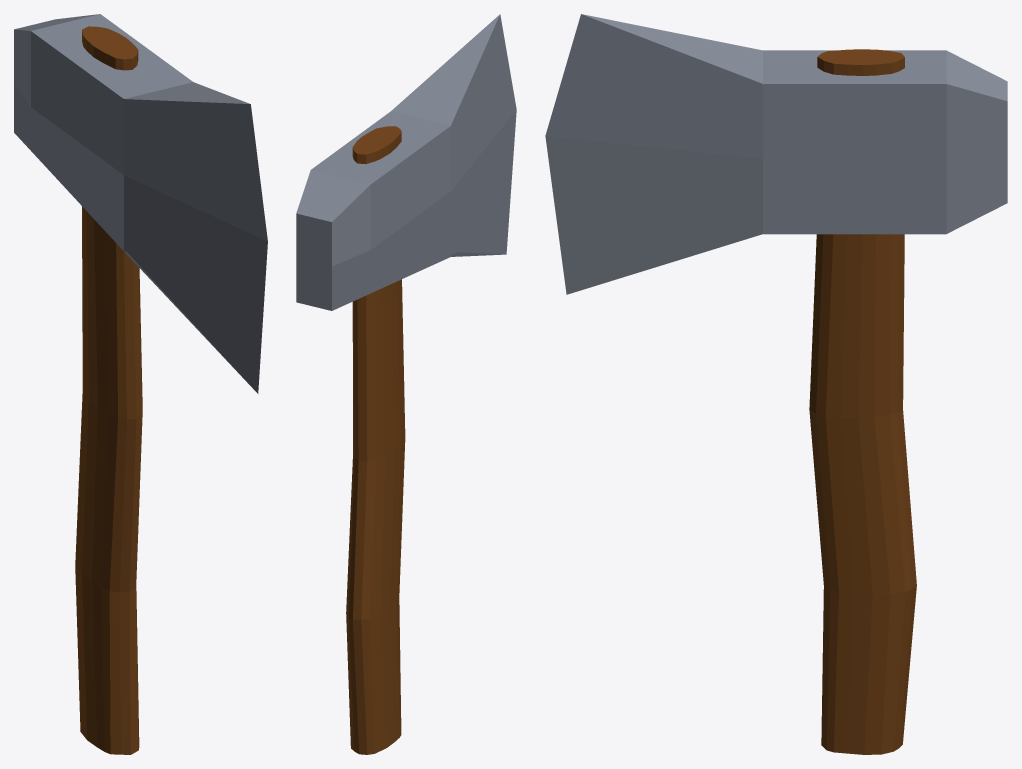
Rendered from stone_axe.glb.
3 renders of one model, left to right at view 1: azimuth 30°, elevation 25°; view 2: azimuth 150°, elevation 25°; view 3: azimuth 270°, elevation 25°, orthographic. The views are drawn at different scales.
Parts seen in each view (by area): view 1: Cube.001, Cube; view 2: Cube.001, Cube; view 3: Cube.001, Cube.
Part boxes in pixels (x1=…): Cube.001: x1=14, y1=14, x2=267, y2=393; Cube: x1=75, y1=26, x2=142, y2=754; Cube.001: x1=296, y1=14, x2=516, y2=310; Cube: x1=346, y1=126, x2=405, y2=754; Cube.001: x1=545, y1=14, x2=1007, y2=294; Cube: x1=809, y1=49, x2=916, y2=754.
Bounding box in the file's own units: 0.536 × 5.45 × 3.12.
